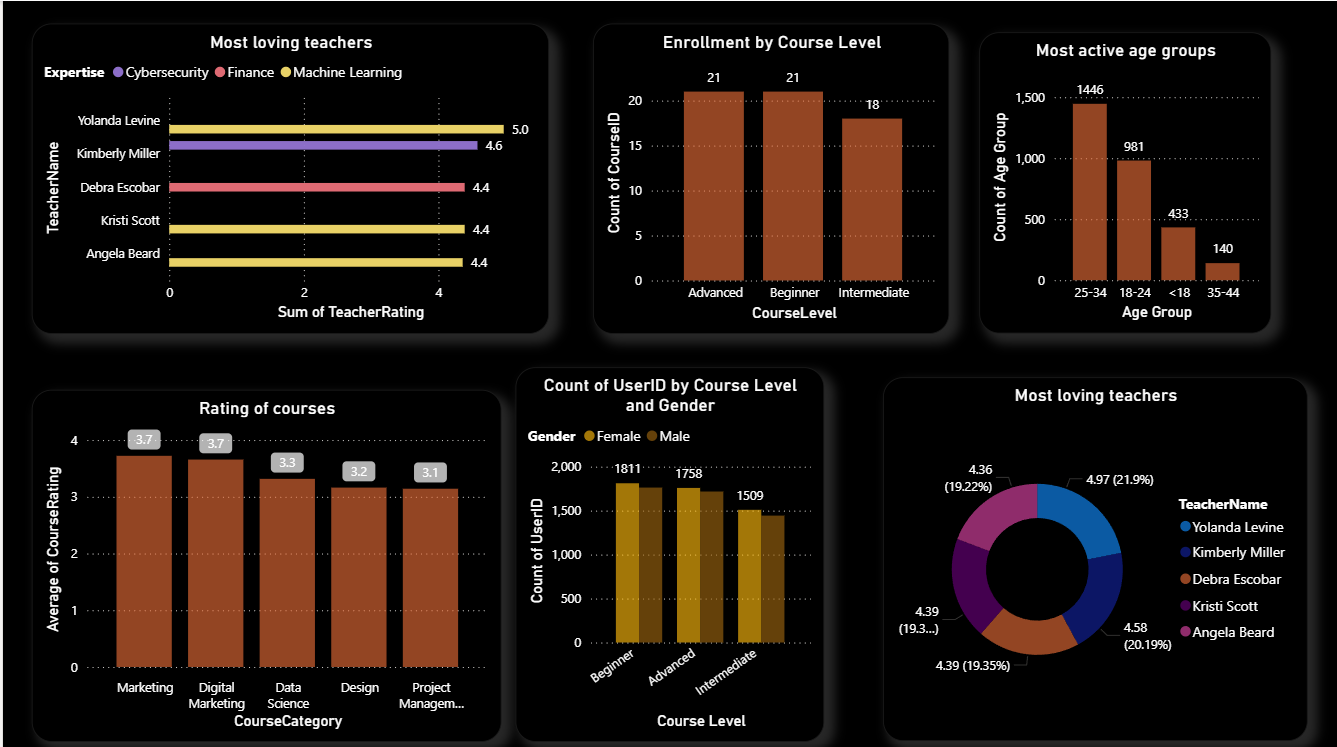

Layout of this report page (visuals, bound fields, positions):
{"tool":"powerbi","page":{"name":"Page 2","canvas":[1280,720],"ordinal":1},"visuals":[{"type":"lineStackedColumnComboChart","title":"Rating of courses","fields":{"Category":["Courses.CourseCategory"],"Y":["Avg(Courses.CourseRating)"]},"box":[27.4,372.2,450.1,337.6],"z":0},{"type":"clusteredBarChart","title":"Most loving teachers","fields":{"Category":["Teachers.TeacherName"],"Y":["Sum(Teachers.TeacherRating)"],"Series":["Teachers.Expertise"]},"box":[27.4,21.6,496.3,297.2],"z":1000},{"type":"clusteredColumnChart","fields":{"Series":["Users.Gender"],"Y":["CountNonNull(Transactions.UserID)"],"Category":["Transactions.Course Level"]},"box":[492,350.6,295.8,359.2],"z":2000},{"type":"columnChart","title":"Enrollment by Course Level","fields":{"Category":["Courses.CourseLevel"],"Y":["CountNonNull(Courses.CourseID)"]},"box":[565.6,21.6,341.9,297.2],"z":3000},{"type":"clusteredColumnChart","title":"Most active age groups","fields":{"Category":["Users.Age Group"],"Y":["CountNonNull(Users.Age Group)"]},"box":[936.4,30.3,279.9,288.6],"z":4000},{"type":"donutChart","title":"Most loving teachers","fields":{"Category":["Teachers.TeacherName"],"Y":["Sum(Teachers.TeacherRating)"],"Series":["Teachers.Expertise"]},"box":[844,360.7,406.9,349.1],"z":5000}]}

Visuals, with their boxes in screenshot pixels (x1, y1, x2, y2), scaled from the page's 1280x720 canvas onto the 1337x747 screenshot:
"Rating of courses" lineStackedColumnComboChart: BBox(29, 386, 499, 736)
"Most loving teachers" clusteredBarChart: BBox(29, 22, 547, 331)
clusteredColumnChart - Users.Gender x CountNonNull(Transactions.UserID): BBox(514, 364, 823, 736)
"Enrollment by Course Level" columnChart: BBox(591, 22, 948, 331)
"Most active age groups" clusteredColumnChart: BBox(978, 31, 1270, 331)
"Most loving teachers" donutChart: BBox(882, 374, 1307, 736)
